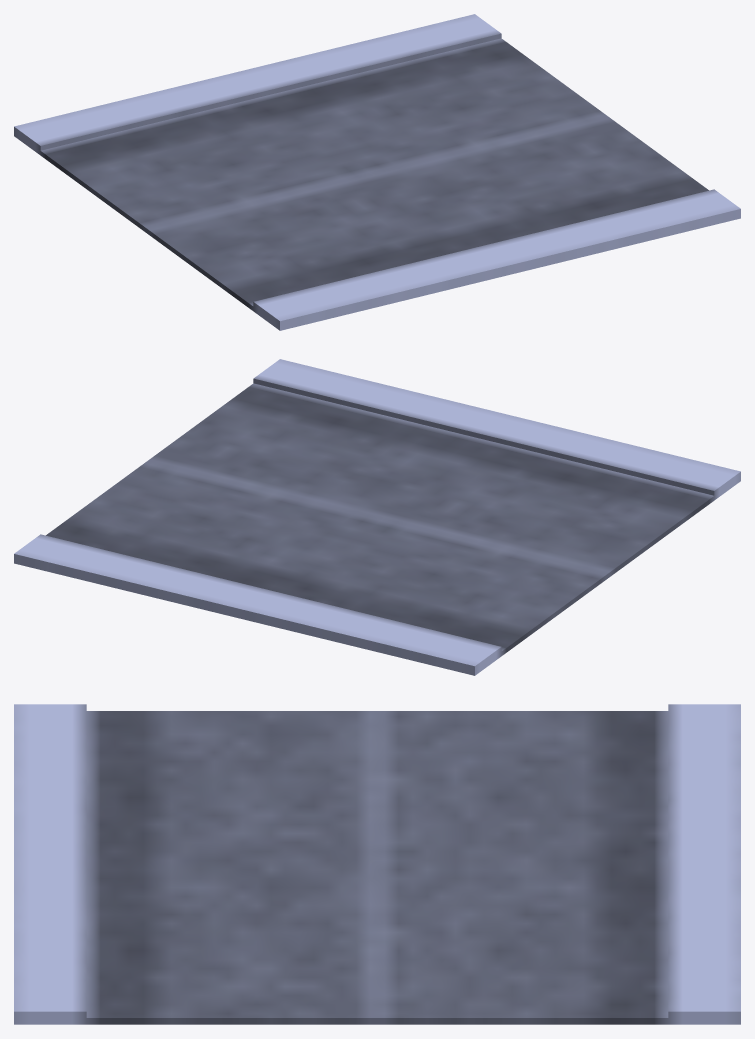
Rendered from road-05.obj.
3 renders of one model, top to bottom at view 1: azimuth 30°, elevation 25°; view 2: azimuth 150°, elevation 25°; view 3: azimuth 270°, elevation 25°, orthographic. The views are drawn at different scales.
Size of the model in its own units: 1 by 0.02 by 1.
Materials: 1 (1 with a texture image).
